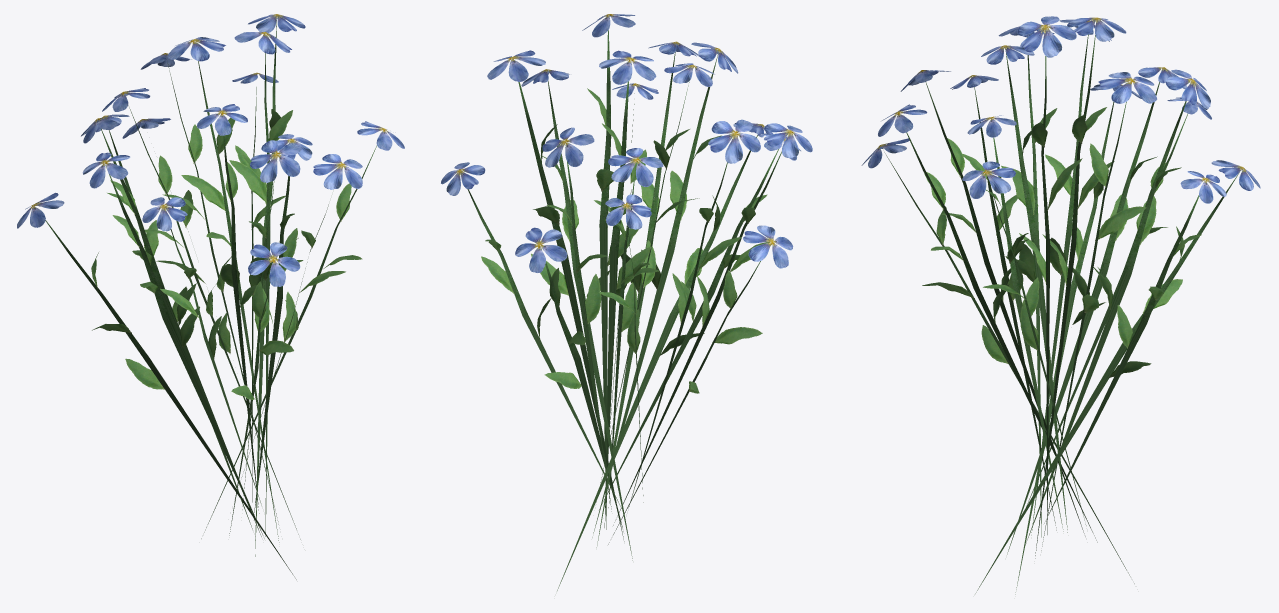
Rendered from Flax_Blue.obj.
3 views of the same model, side by side, from view 1: azimuth 30°, elevation 25°; view 2: azimuth 150°, elevation 25°; view 3: azimuth 270°, elevation 25° (orthographic). The views are drawn at different scales.
Visible parts, largest first — view 1: BlueFlax; view 2: BlueFlax; view 3: BlueFlax.
Boxes of the visible parts, x1,y1,x2,y2 form: BlueFlax: (17,14,404,579); BlueFlax: (441,14,812,590); BlueFlax: (861,16,1260,594).
Bounding box in the file's own units: 0.6465 × 0.9844 × 0.6605.
